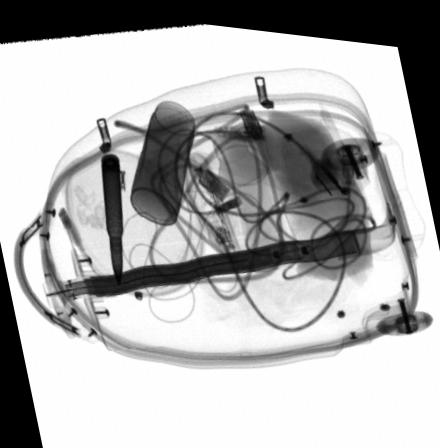Bullet: (99, 150, 122, 285)
